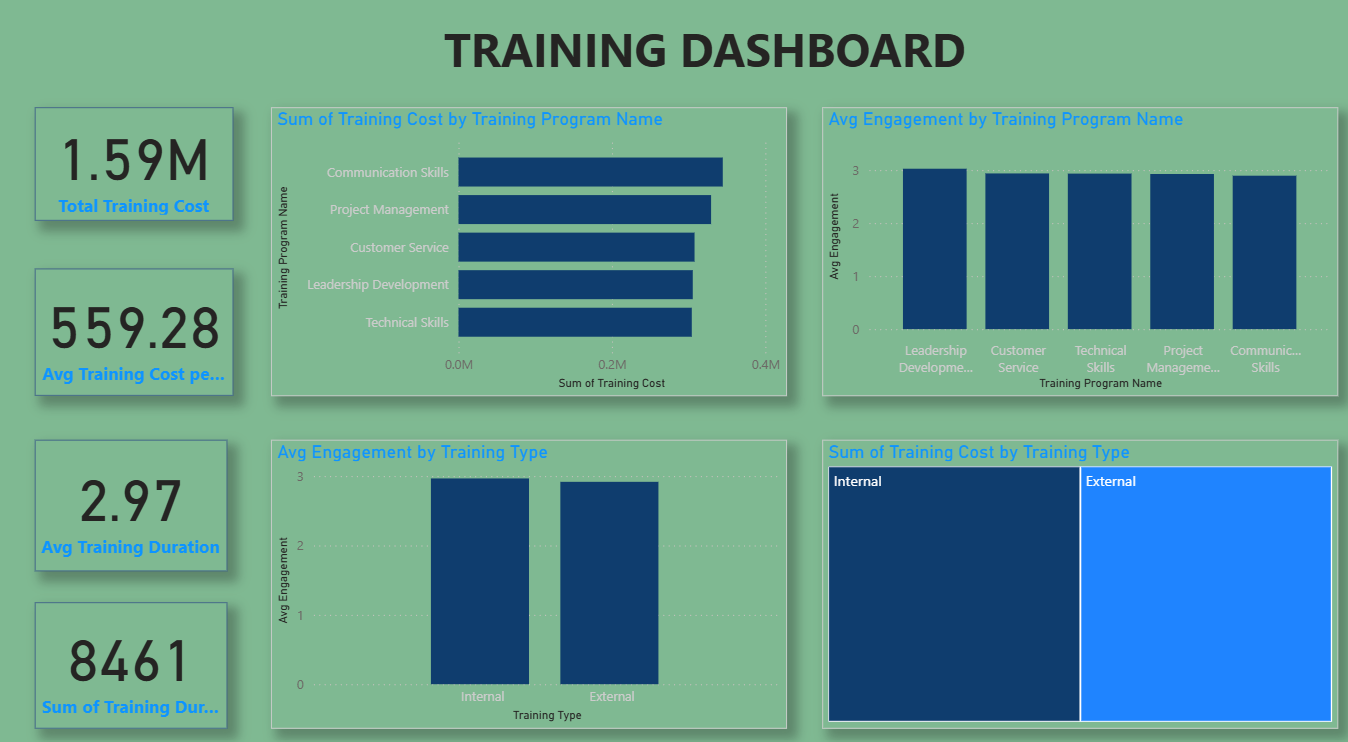

What the dashboard file says about the page in this screenshot:
{"tool":"powerbi","page":{"name":"TRAINING DASHBOARD","canvas":[1280,720],"ordinal":3},"visuals":[{"type":"card","fields":{"Values":["HR.Total Training Cost"]},"box":[45.3,112.8,184.9,105.8],"z":0},{"type":"card","fields":{"Values":["HR.Avg Training Duration"]},"box":[45.3,422.1,179.1,122.1],"z":1000},{"type":"card","fields":{"Values":["HR.Avg Training Cost per Employee"]},"box":[45.3,262.8,184.9,118.6],"z":2000},{"type":"card","fields":{"Values":["Sum(HR.Training Duration(Days))"]},"box":[45.3,573.3,179.1,117.4],"z":3000},{"type":"barChart","fields":{"Category":["HR.Training Program Name"],"Y":["Sum(HR.Training Cost)"]},"box":[265.1,112.8,480.2,268.6],"z":4000},{"type":"clusteredColumnChart","fields":{"Category":["HR.Training Type"],"Y":["HR.Avg Engagement"]},"box":[265.1,422.1,480.2,268.6],"z":5000},{"type":"lineStackedColumnComboChart","fields":{"Category":["HR.Training Program Name"],"Y":["HR.Avg Engagement"]},"box":[777.9,112.8,480.2,268.6],"z":6000},{"type":"treemap","fields":{"Group":["HR.Training Type"],"Values":["Sum(HR.Training Cost)"]},"box":[777.9,422.1,480.2,268.6],"z":7000},{"type":"textbox","box":[230.2,24.4,876.7,67.4],"z":8000}]}

Visuals, with their boxes in screenshot pixels (x1, y1, x2, y2), scaled from the page's 1280x720 canvas onto the 1348x742 screenshot:
card - HR.Total Training Cost: locate(48, 116, 242, 225)
card - HR.Avg Training Duration: locate(48, 435, 236, 561)
card - HR.Avg Training Cost per Employee: locate(48, 271, 242, 393)
card - Sum(HR.Training Duration(Days)): locate(48, 591, 236, 712)
barChart - HR.Training Program Name x Sum(HR.Training Cost): locate(279, 116, 785, 393)
clusteredColumnChart - HR.Training Type x HR.Avg Engagement: locate(279, 435, 785, 712)
lineStackedColumnComboChart - HR.Training Program Name x HR.Avg Engagement: locate(819, 116, 1325, 393)
treemap - HR.Training Type x Sum(HR.Training Cost): locate(819, 435, 1325, 712)
textbox: locate(242, 25, 1166, 95)
